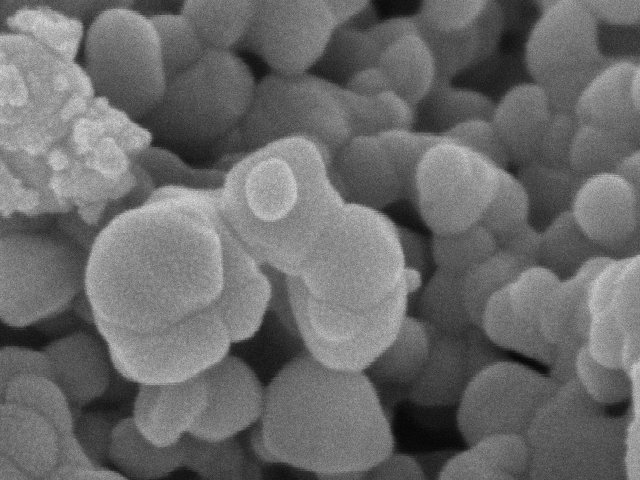nano: (243, 154, 302, 225)
